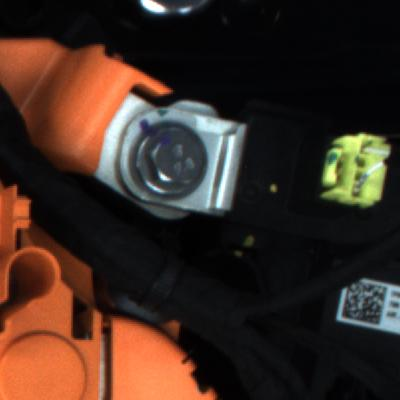nut_b: (122, 115, 211, 201)
